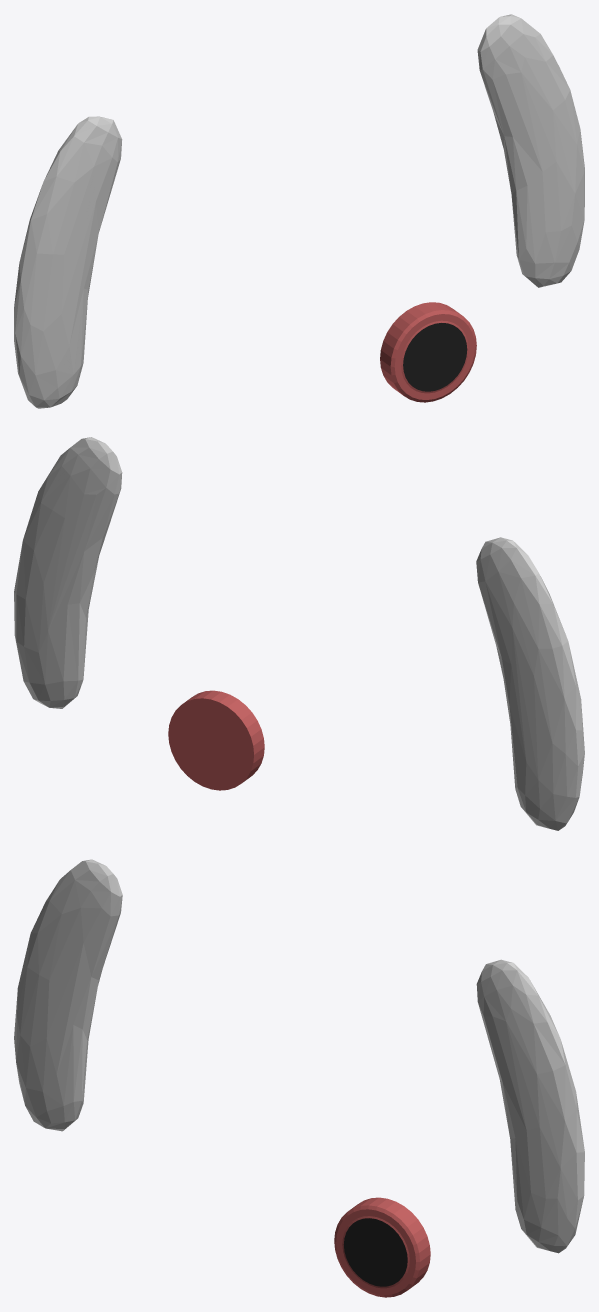
The model's file is controls.fbx.
3 renders of one model, top to bottom at view 1: azimuth 30°, elevation 25°; view 2: azimuth 150°, elevation 25°; view 3: azimuth 330°, elevation 25°, orthographic.
Parts seen in each view (by area): view 1: Torus, Cylinder; view 2: Torus, Cylinder; view 3: Torus, Cylinder.
Boxes of the visible parts, box(x1,y1,x2,y2) form: Torus: box(14, 14, 584, 408); Cylinder: box(380, 302, 476, 402); Torus: box(14, 437, 584, 830); Cylinder: box(168, 690, 264, 790); Torus: box(14, 859, 584, 1253); Cylinder: box(334, 1197, 430, 1297).
Bounding box in the file's own units: 41.35 × 23.53 × 4.68.
